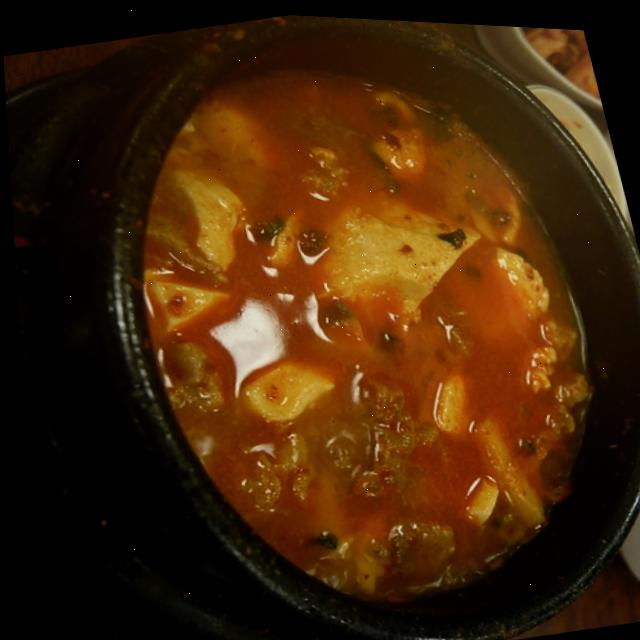汤锅炖物: (34, 1, 640, 640)
